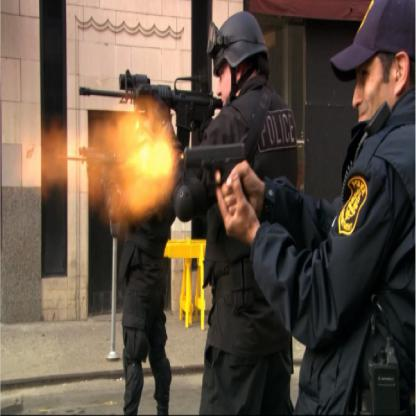Gun: (56, 63, 256, 200)
